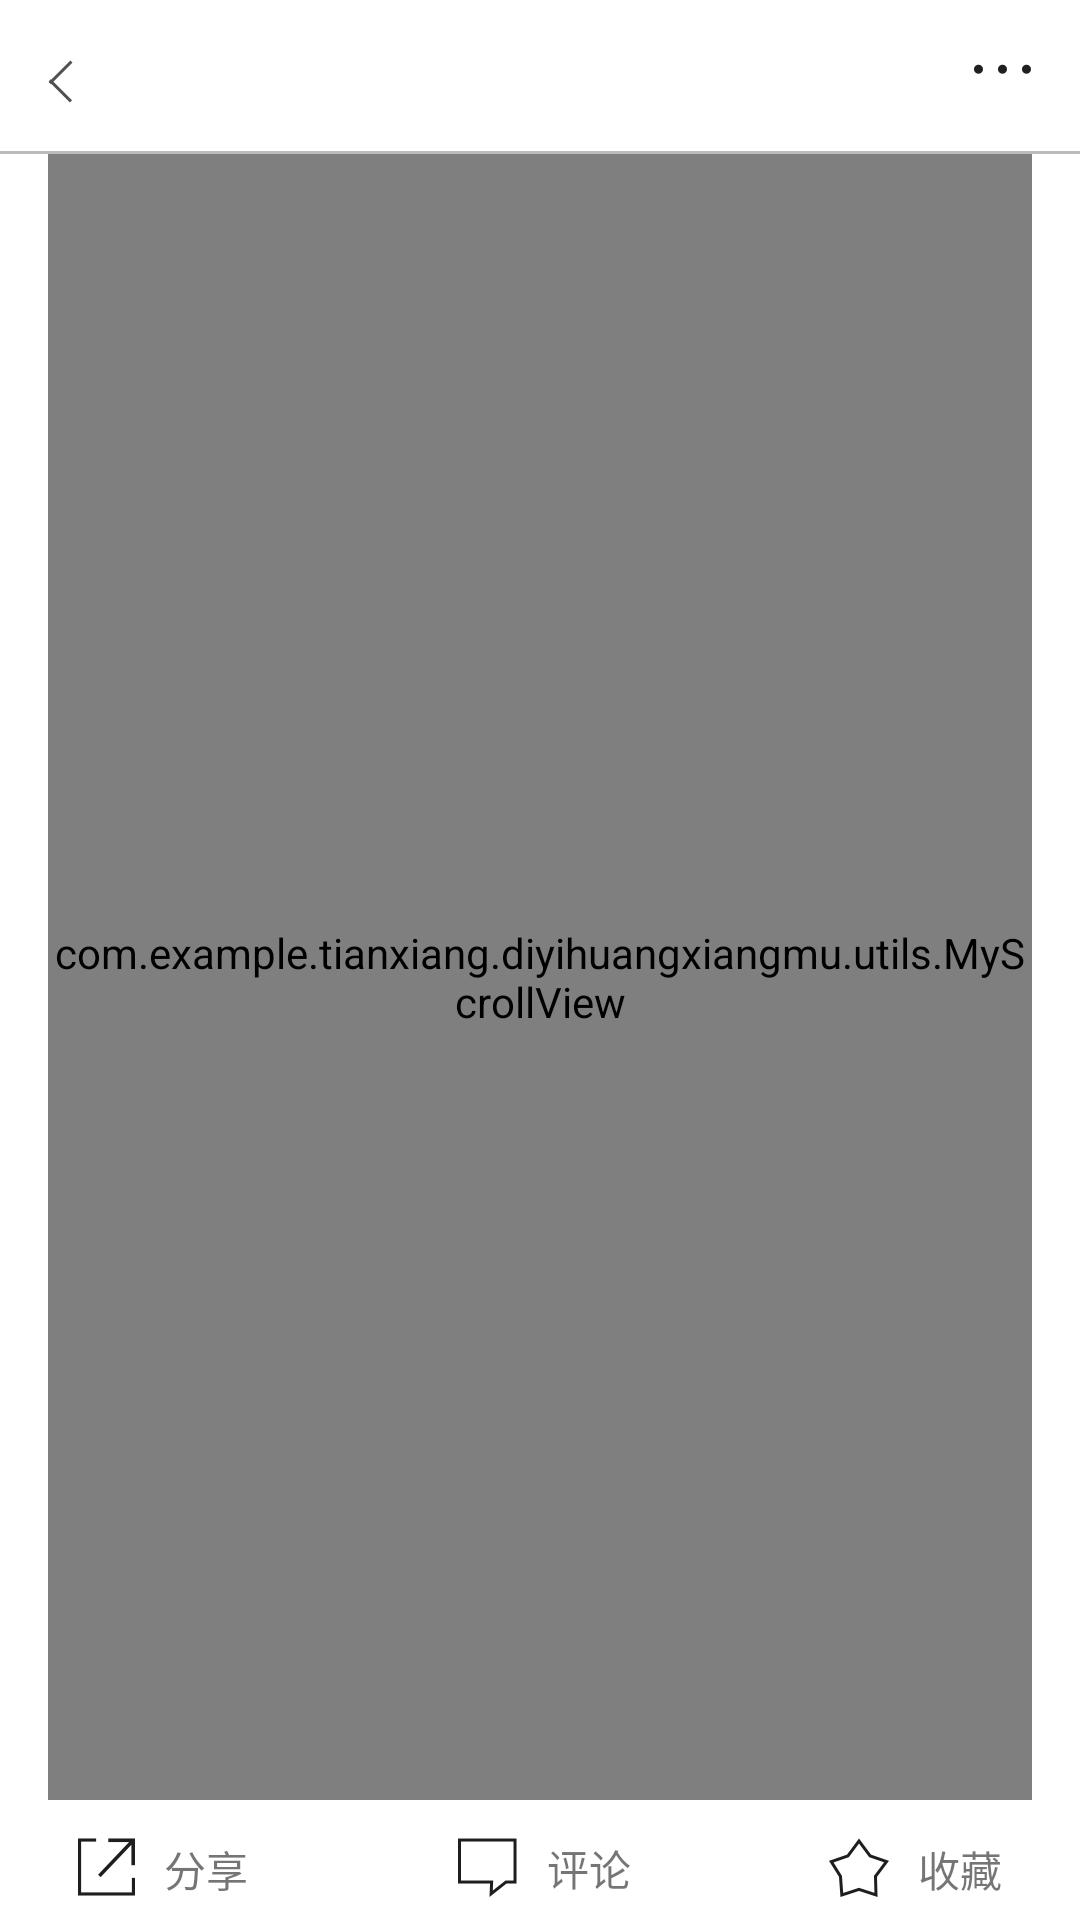

Point at icon controls on the screen. Image size 1080*1920, points as point (x, y).
bew bottom msg: point (487, 1867)
register fanhui: point (61, 81)
web forward: point (106, 1867)
